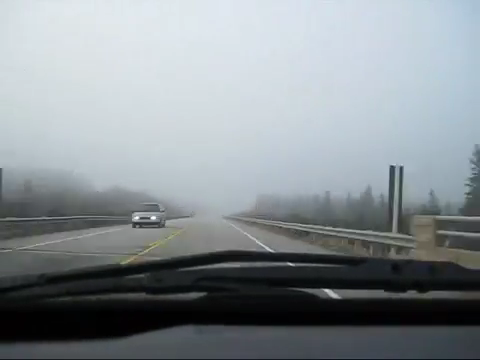car: (131, 201, 167, 228)
